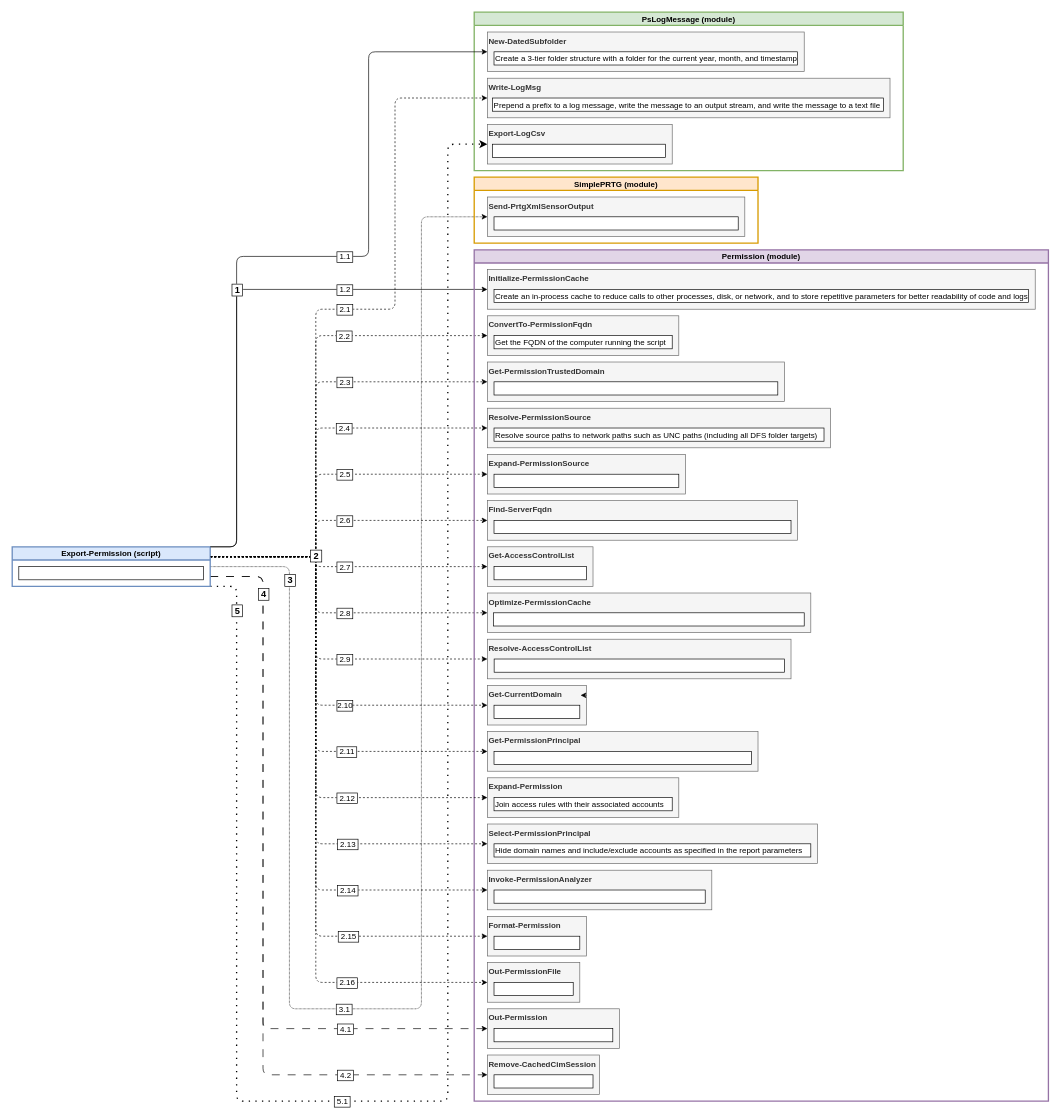
The diagram is 1060 pixels wide and 1118 high, and some of its shapes have lost their labels. Each missing label, with the centre of its shape:
Analyze the permissions against established best practices: point 599,896
Cleanup CIM sessions: point 543,1081
Create CSV, HTML, and XML reports of permissions: point 111,573
Discover any domains trusted by the domain of the computer running the script: point 635,388
Expand parent paths into the paths of their children: point 586,480
Export the buffered log messages to a CSV file: point 579,150
Export the report files: point 533,989
Format the permissions: point 536,942
Get the ACL of each path: point 539,573
Get the current domain: point 536,711
Get the FQDN of this computer, each trusted domain, and each server in the paths: point 642,527
Output the result to the pipeline: point 553,1035
Query each FQDN to pre-populate caches, avoiding redundant ADSI and CIM queries: point 648,619
Resolve each identity reference (from the ACLs) to its SID and NTAccount name: point 638,665
Send the results to a PRTG Custom XML Push sensor for monitoring: point 615,223
Use ADSI and CIM to get details about each resolved identity reference: point 622,758
